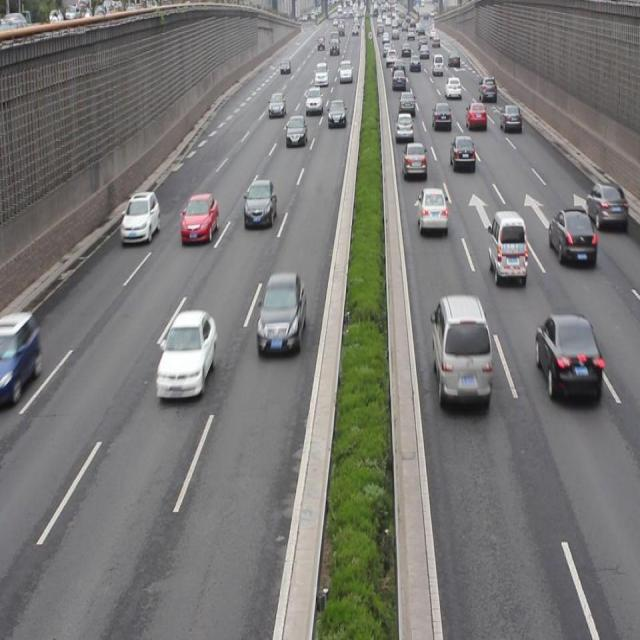car: (534, 309, 599, 402), (156, 310, 216, 398), (255, 270, 306, 352), (0, 310, 40, 406), (548, 207, 595, 268), (119, 191, 161, 245), (584, 179, 626, 233), (180, 192, 219, 247), (244, 176, 278, 228), (416, 188, 448, 234), (450, 134, 476, 174), (403, 140, 426, 180), (497, 101, 522, 136), (285, 114, 306, 147), (394, 110, 413, 144), (466, 100, 486, 132), (327, 98, 347, 130), (429, 101, 451, 129)
truck: (430, 294, 491, 404), (486, 208, 527, 284)
